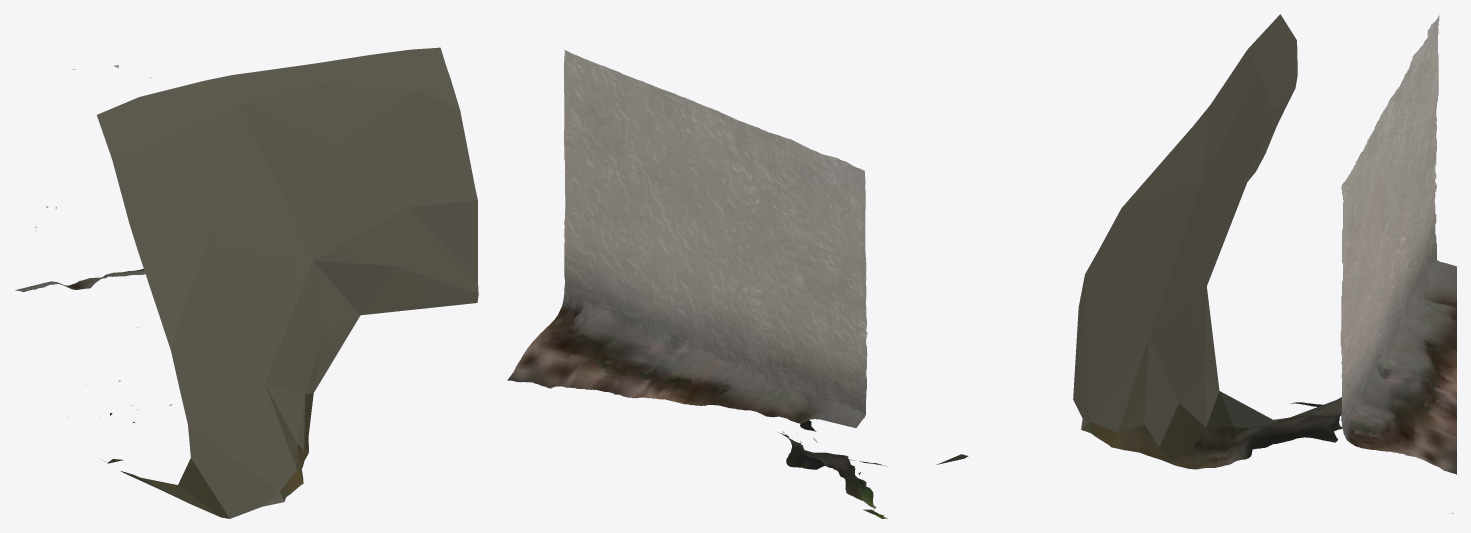
The picture shows the model from 3 angles, left to right: view 1: azimuth 30°, elevation 25°; view 2: azimuth 150°, elevation 25°; view 3: azimuth 270°, elevation 25°; orthographic projection. The views are drawn at different scales.
Bounding box in the file's own units: 0.983 × 0.983 × 0.9329.
1 material, 1 textured.
